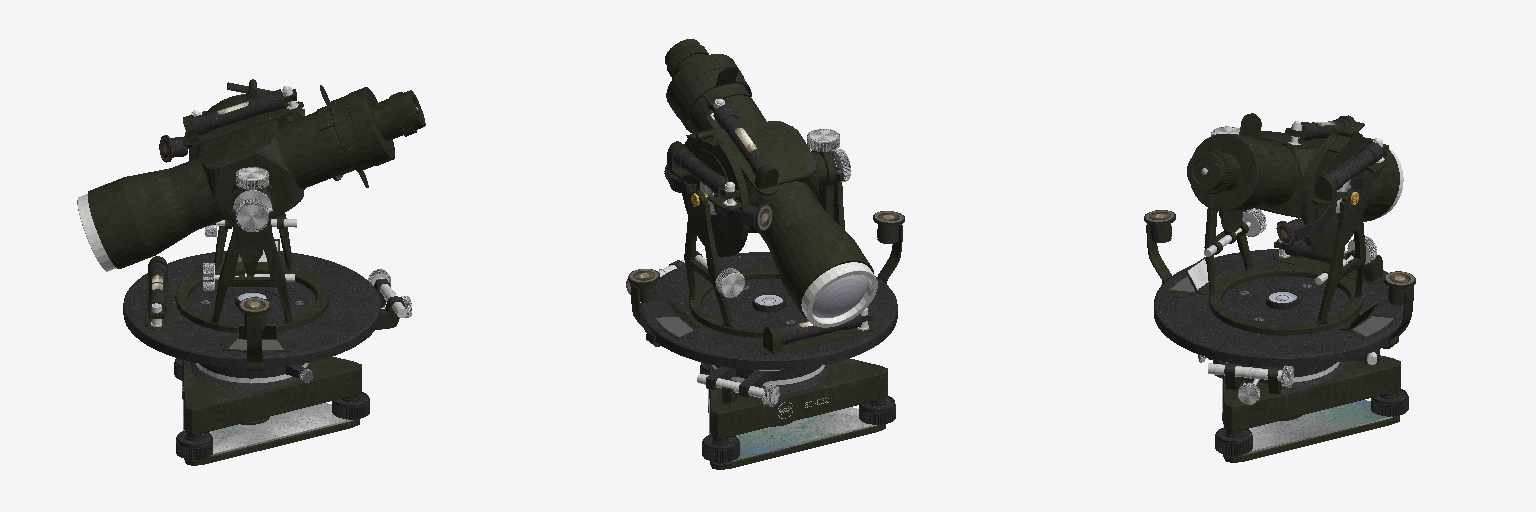
3 views of the same model, side by side, from view 1: azimuth 30°, elevation 25°; view 2: azimuth 150°, elevation 25°; view 3: azimuth 270°, elevation 25° (orthographic).
Parts seen in each view (by area): view 1: Cylinder033; view 2: Cylinder033; view 3: Cylinder033.
Boxes of the visible parts, box(x1,y1,x2,y2) form: Cylinder033: box(77, 79, 425, 465); Cylinder033: box(626, 39, 904, 469); Cylinder033: box(1144, 113, 1415, 462).
Bounding box in the file's own units: 68.27 × 78.28 × 57.53.
Materials: 28 (12 with a texture image).